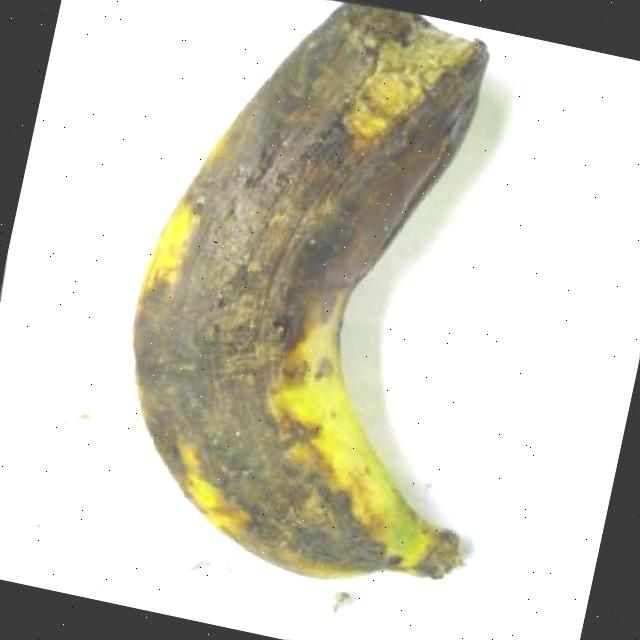Rotten: (58, 0, 601, 629)
